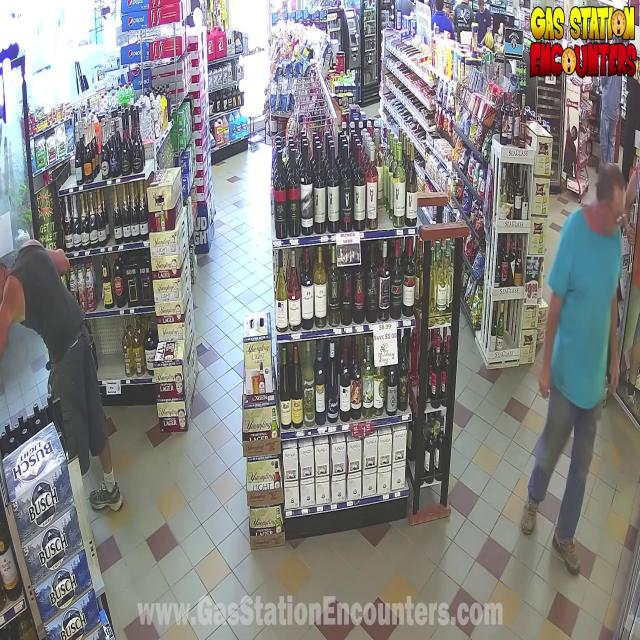normal: (0, 135, 132, 532), (516, 156, 640, 578)
